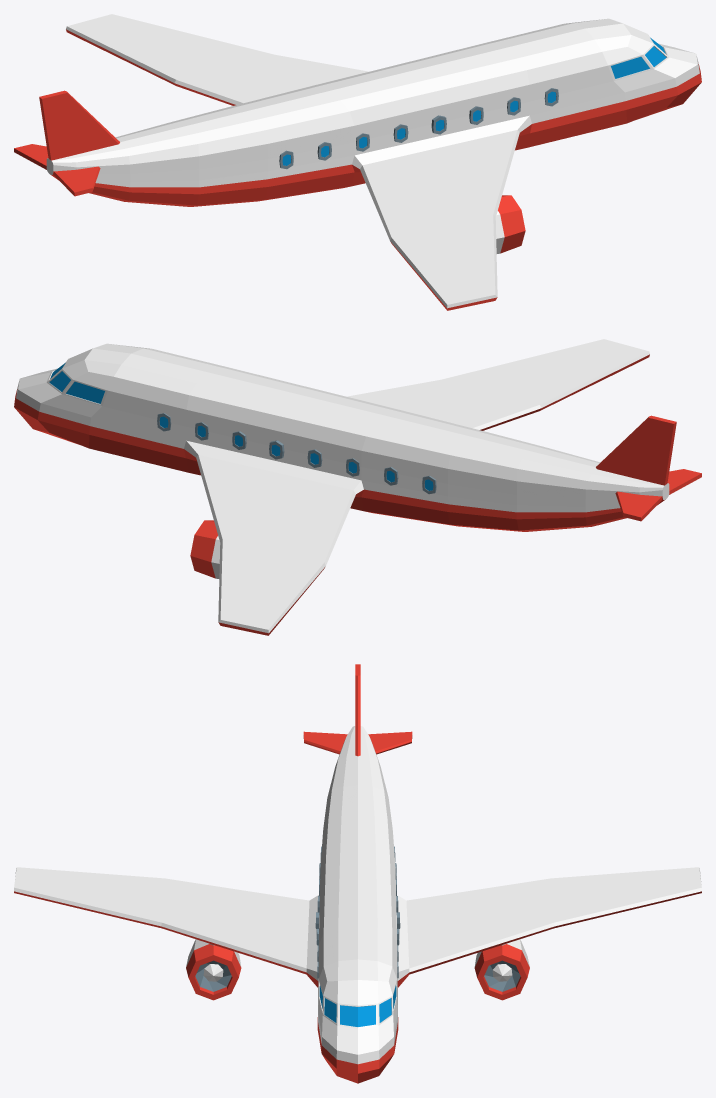
Rendered from airplane.glb.
3 renders of one model, top to bottom at view 1: azimuth 30°, elevation 25°; view 2: azimuth 150°, elevation 25°; view 3: azimuth 270°, elevation 25°, orthographic. The views are drawn at different scales.
Parts seen in each view (by area): view 1: Cube.027_Cube.024; view 2: Cube.027_Cube.024; view 3: Cube.027_Cube.024.
Part boxes in pixels (bbox=[...]): Cube.027_Cube.024: bbox=[14, 14, 701, 310]; Cube.027_Cube.024: bbox=[14, 339, 701, 635]; Cube.027_Cube.024: bbox=[14, 664, 701, 1083].
Size of the model in its own units: 37.34 by 10.1 by 37.59.
